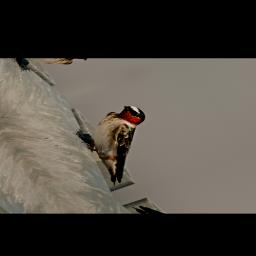Swallow: (63, 101, 187, 186)
